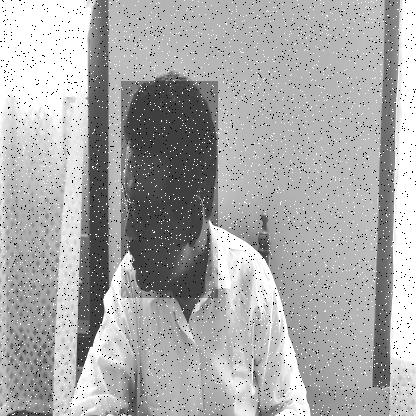Distracted: (121, 81, 218, 298)
